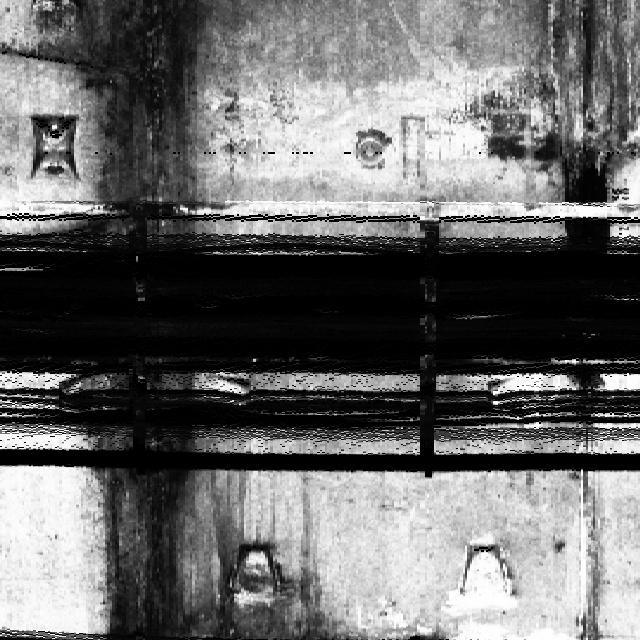leakage: (56, 356, 233, 639), (35, 0, 210, 248), (477, 0, 636, 247)
